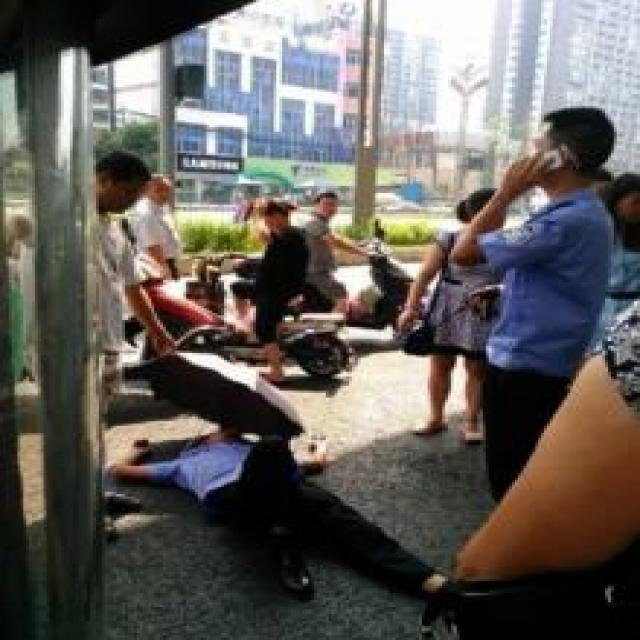fall: (120, 428, 433, 598)
